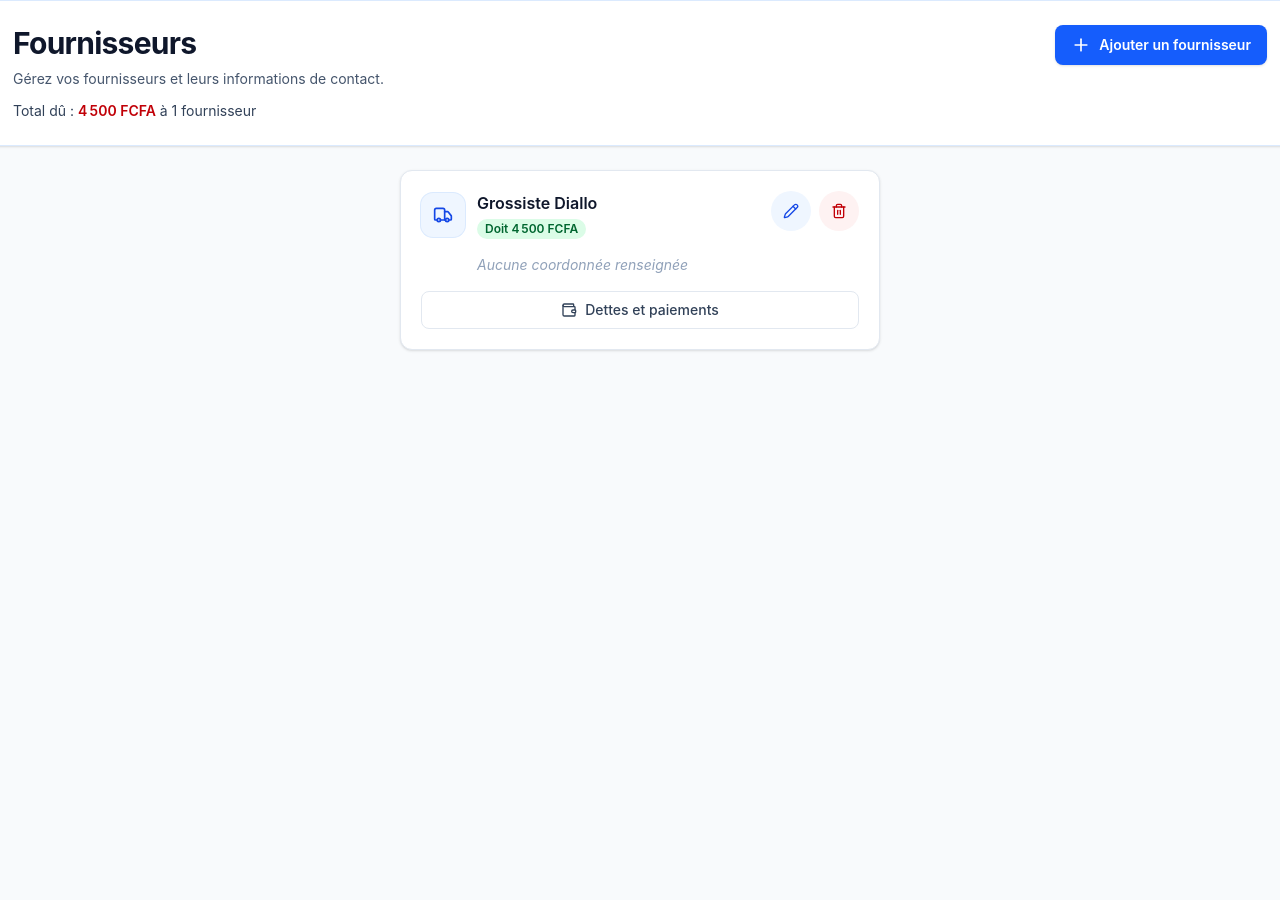
Scenario: Fiche fournisseur : paiement et correction refusés après l’expiration › paiement : un seul message (en haut), erreur précédente effacée, montant et mode conservés, bouton normal
This screenshot has width=1280, height=900.
Step 1. Click the button with aria-label "Dettes et paiements du fournisseur Grossiste Diallo" → (640, 310), box [421,291,859,329]
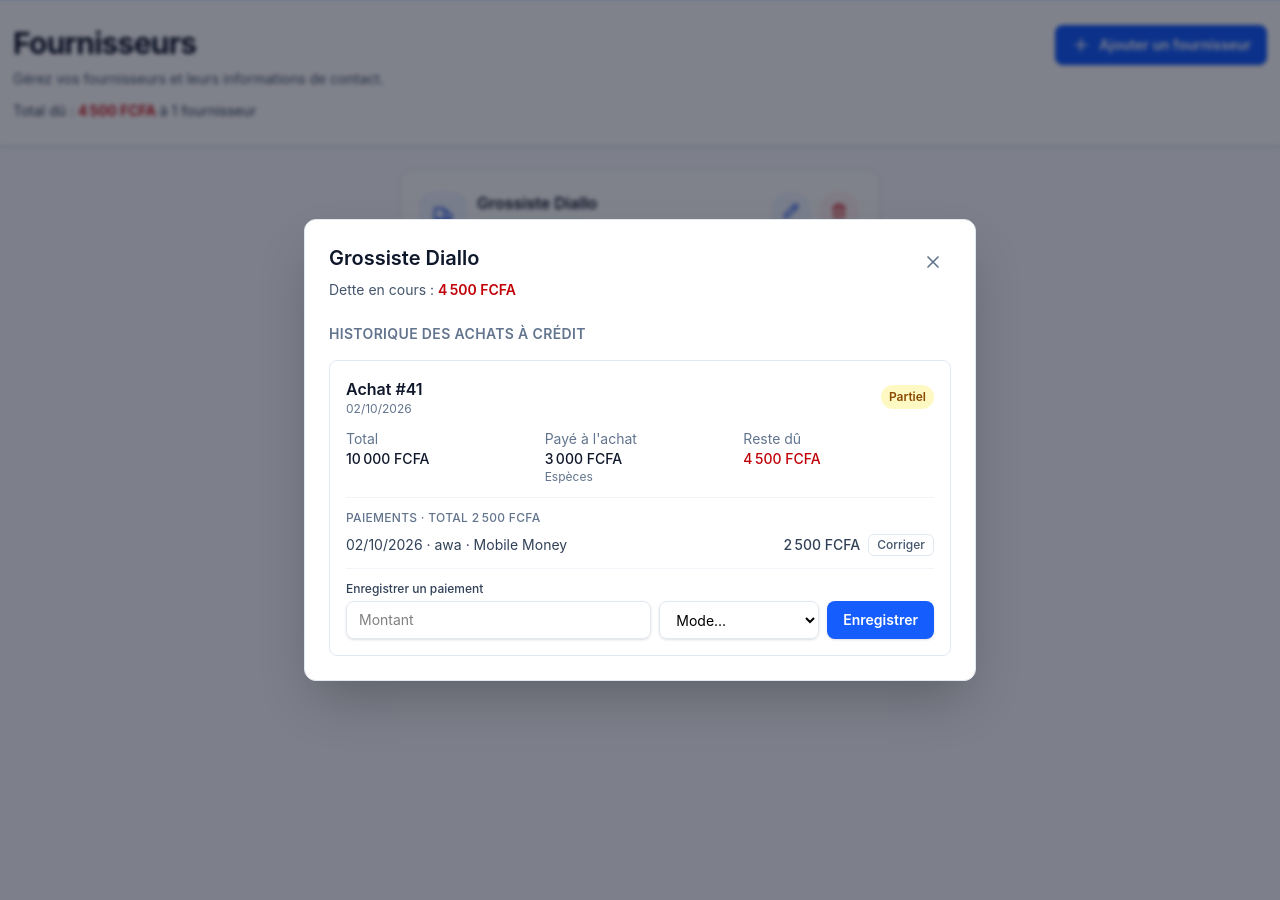
Step 2. Click the number field labelled "Enregistrer un paiement" → (499, 620), box [346,601,651,639]
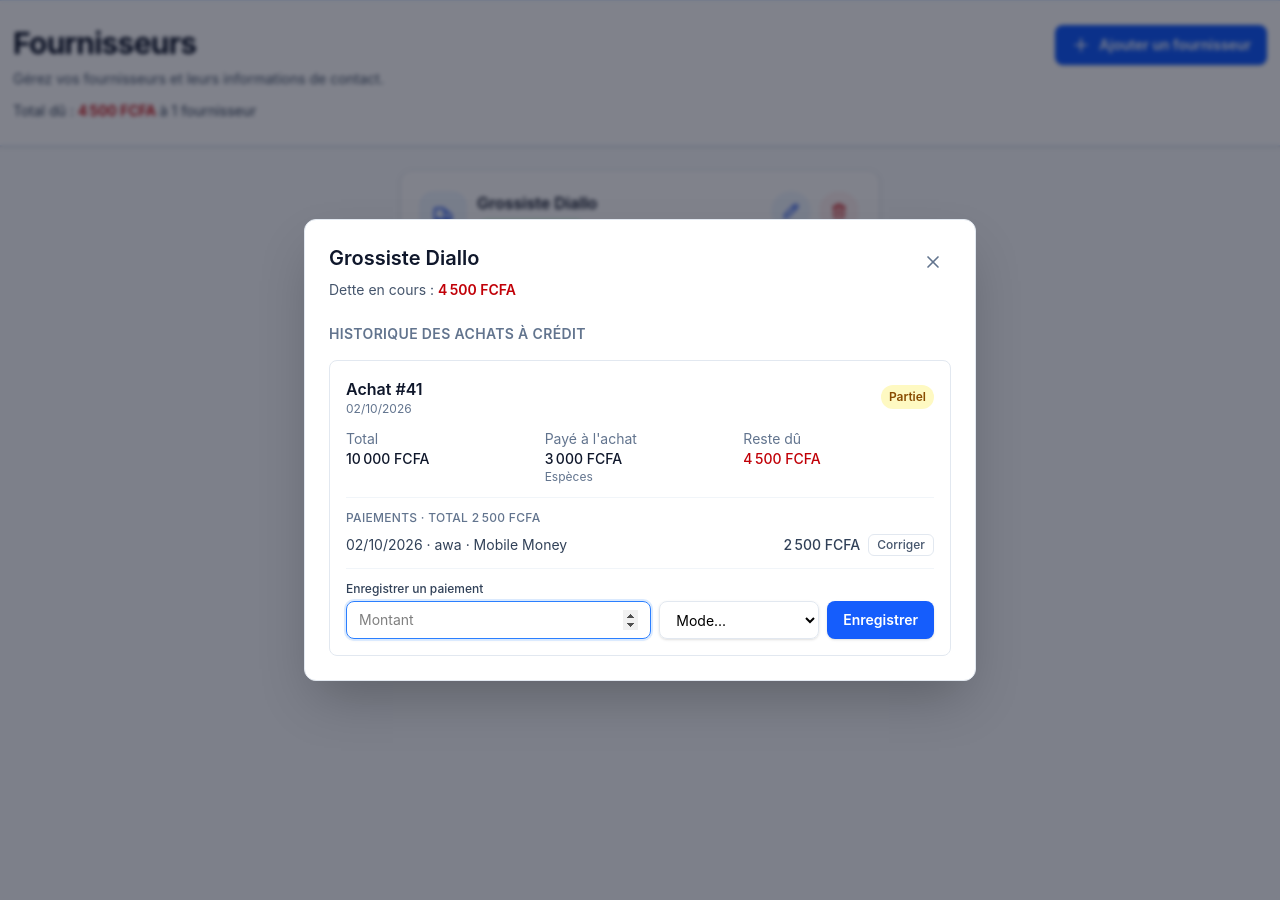
Step 3. Type keys "1000"
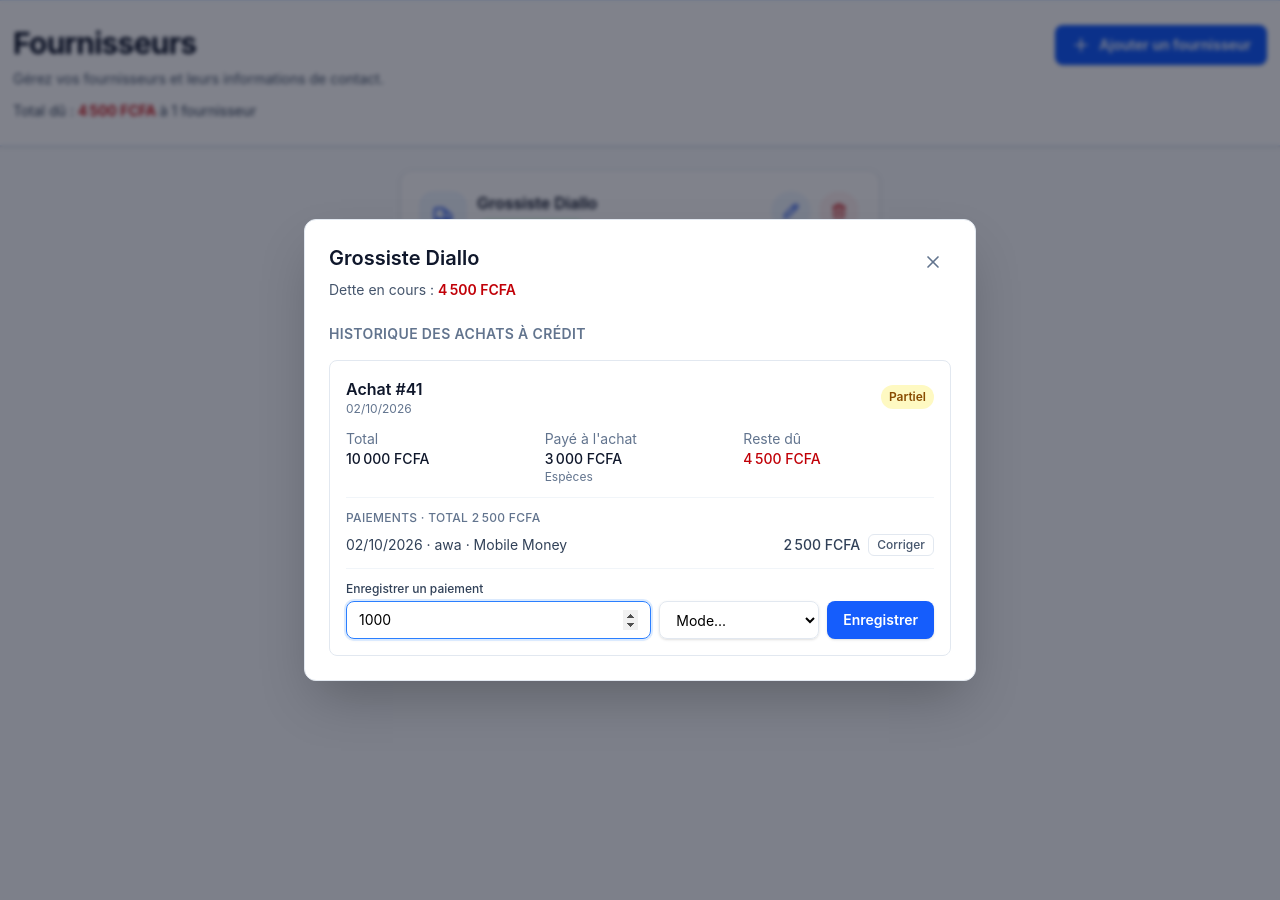
Step 4. Select "Espèces" in the dropdown named "Mode de paiement" → (739, 620), box [659,601,819,639]
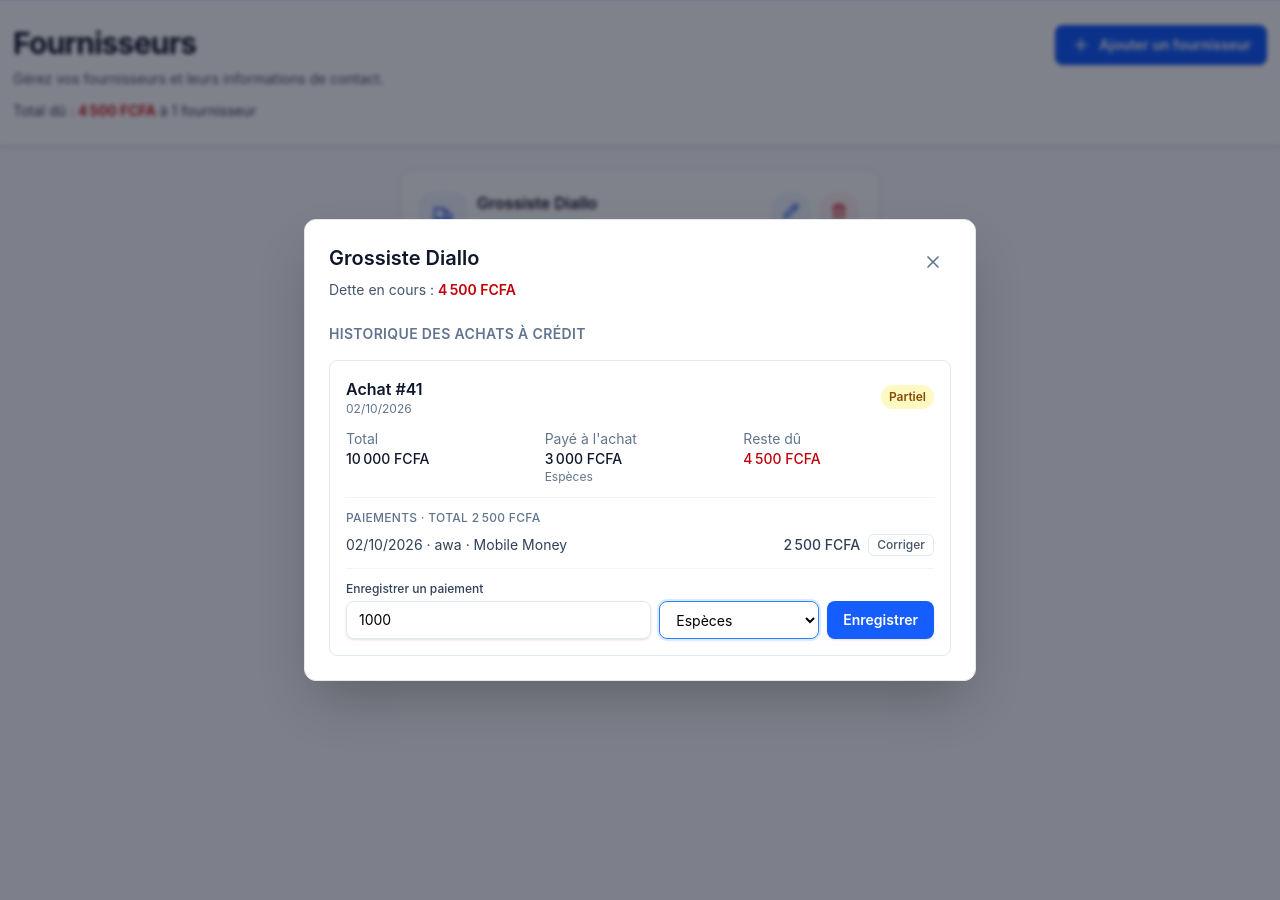
Step 5. Click the button "Enregistrer" → (881, 620), box [827,601,934,639]
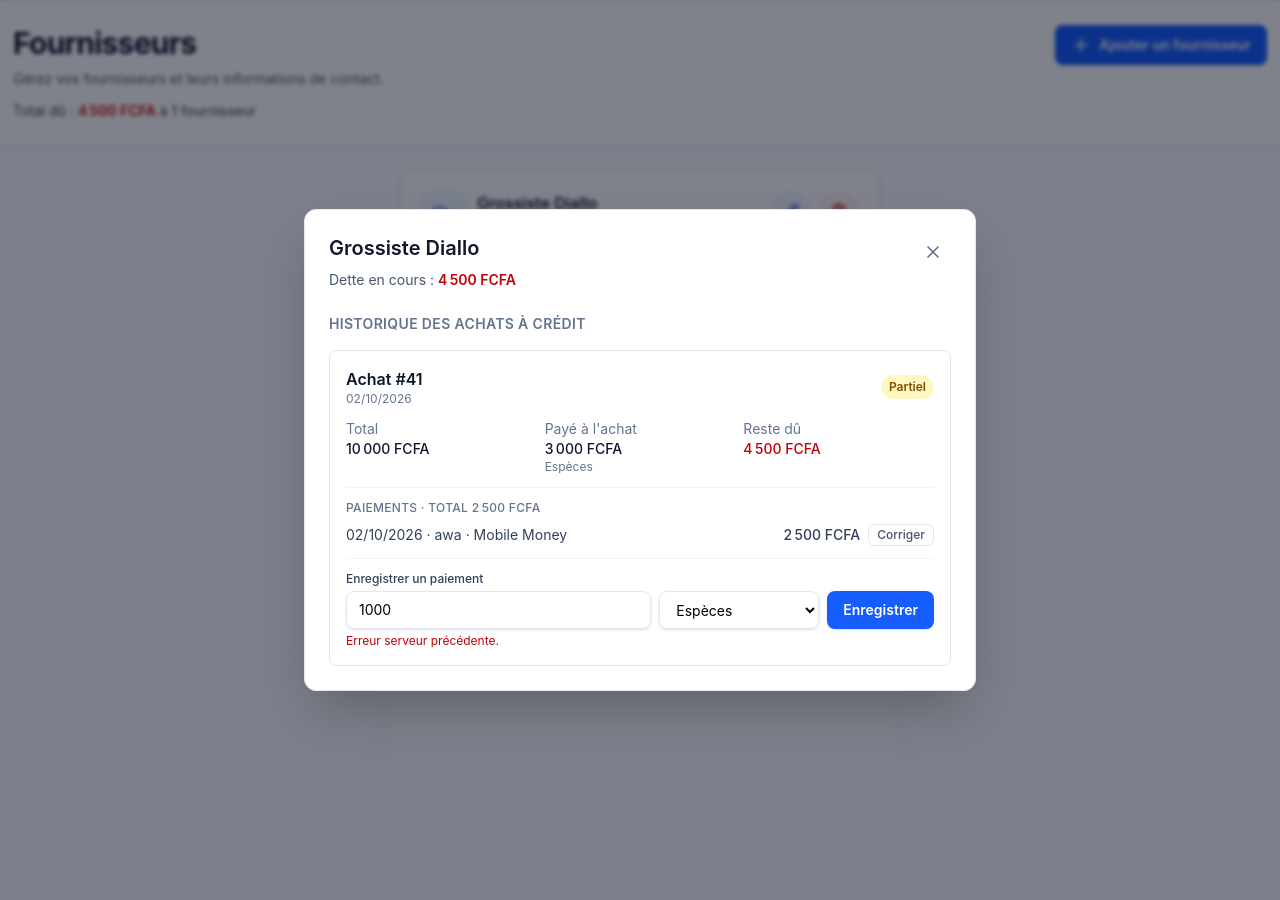
Result: the text "Erreur serveur précédente." is shown at [346,633,499,648]
Step 6. Click the button "Enregistrer" → (881, 610), box [827,591,934,629]
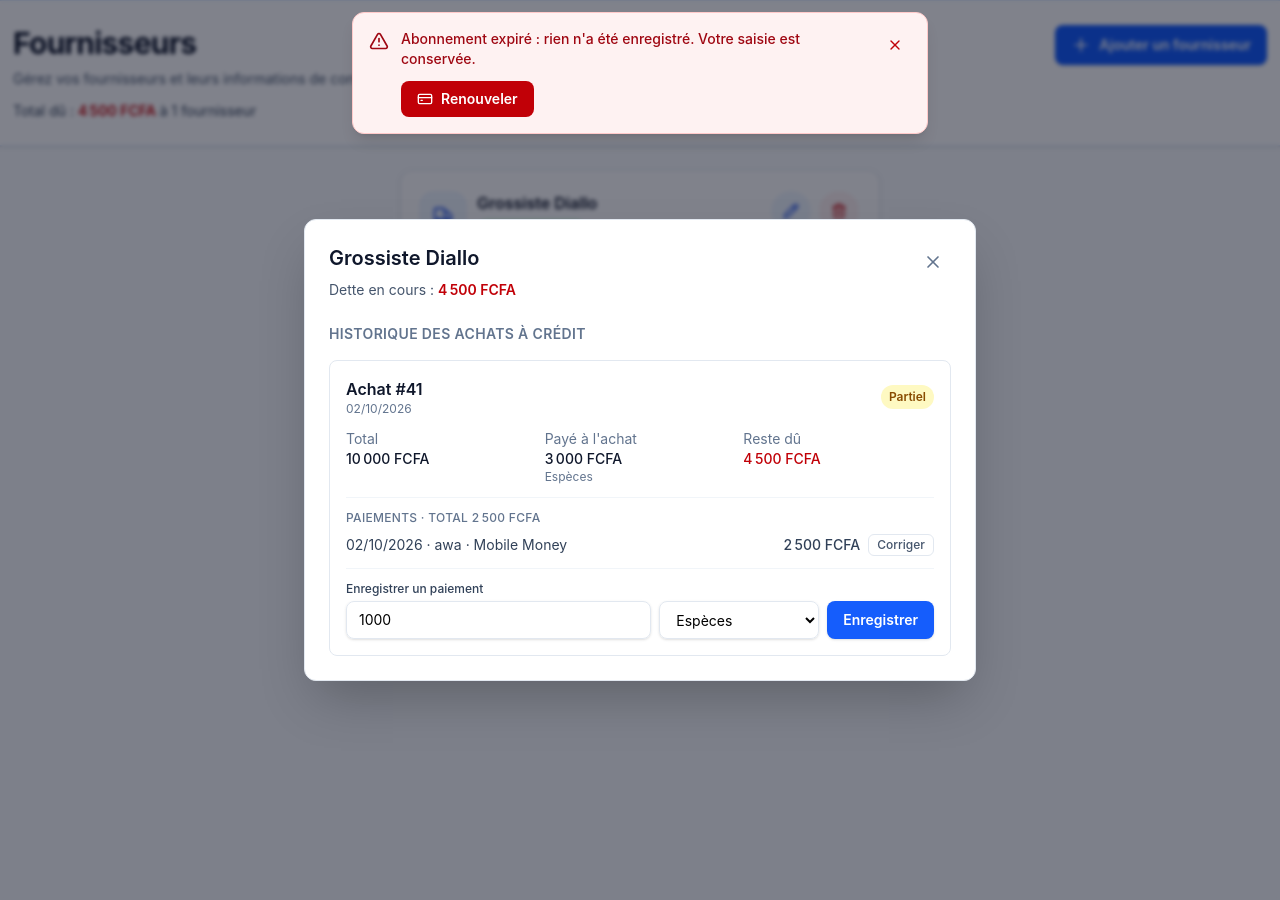
Result: the message shows "Abonnement expiré : rien n'a été enregistré. Votre saisie est conservée." at [401,30,800,67]
Result: the number of messages is 1 at [352,12,928,134]
Result: the text "Erreur serveur précédente." is gone
